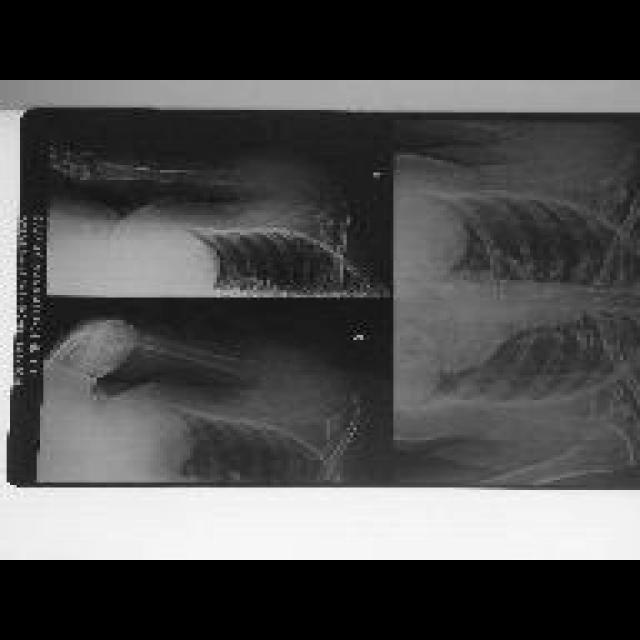bone-cancer: (232, 330, 370, 444), (473, 115, 637, 204), (212, 134, 345, 214)
